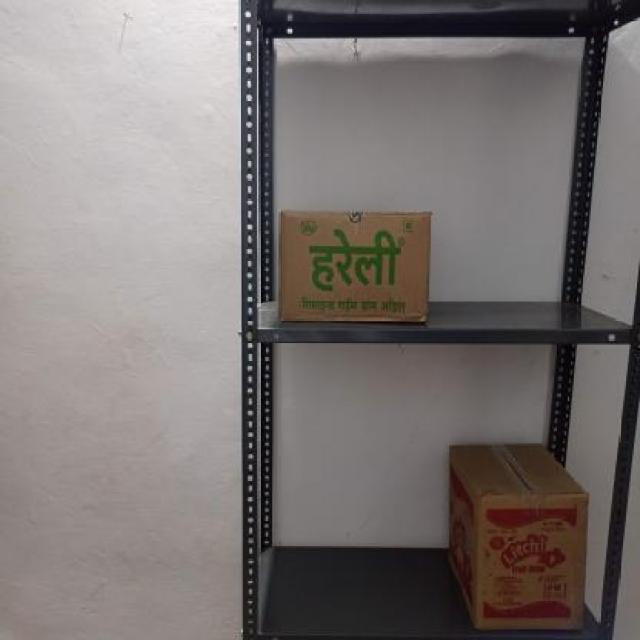box: (278, 208, 431, 326), (477, 492, 585, 632)
